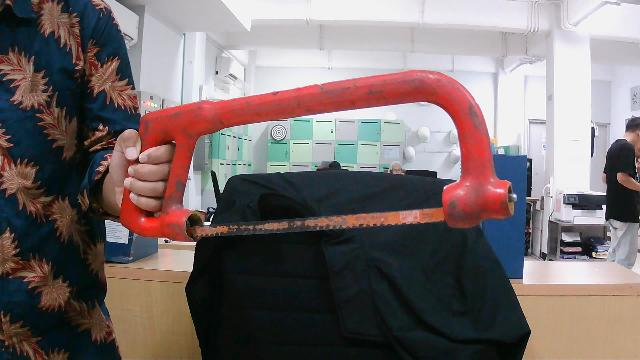gergaji_besi: (115, 68, 522, 245)
